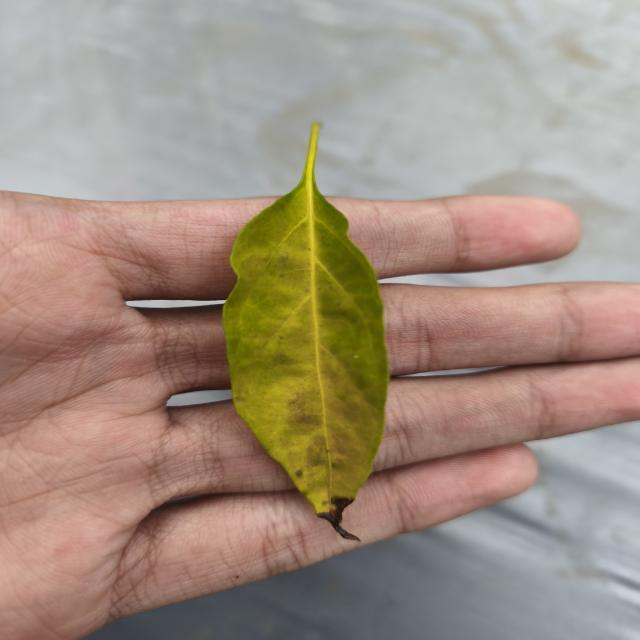Virus Kuning: (220, 178, 390, 542)
